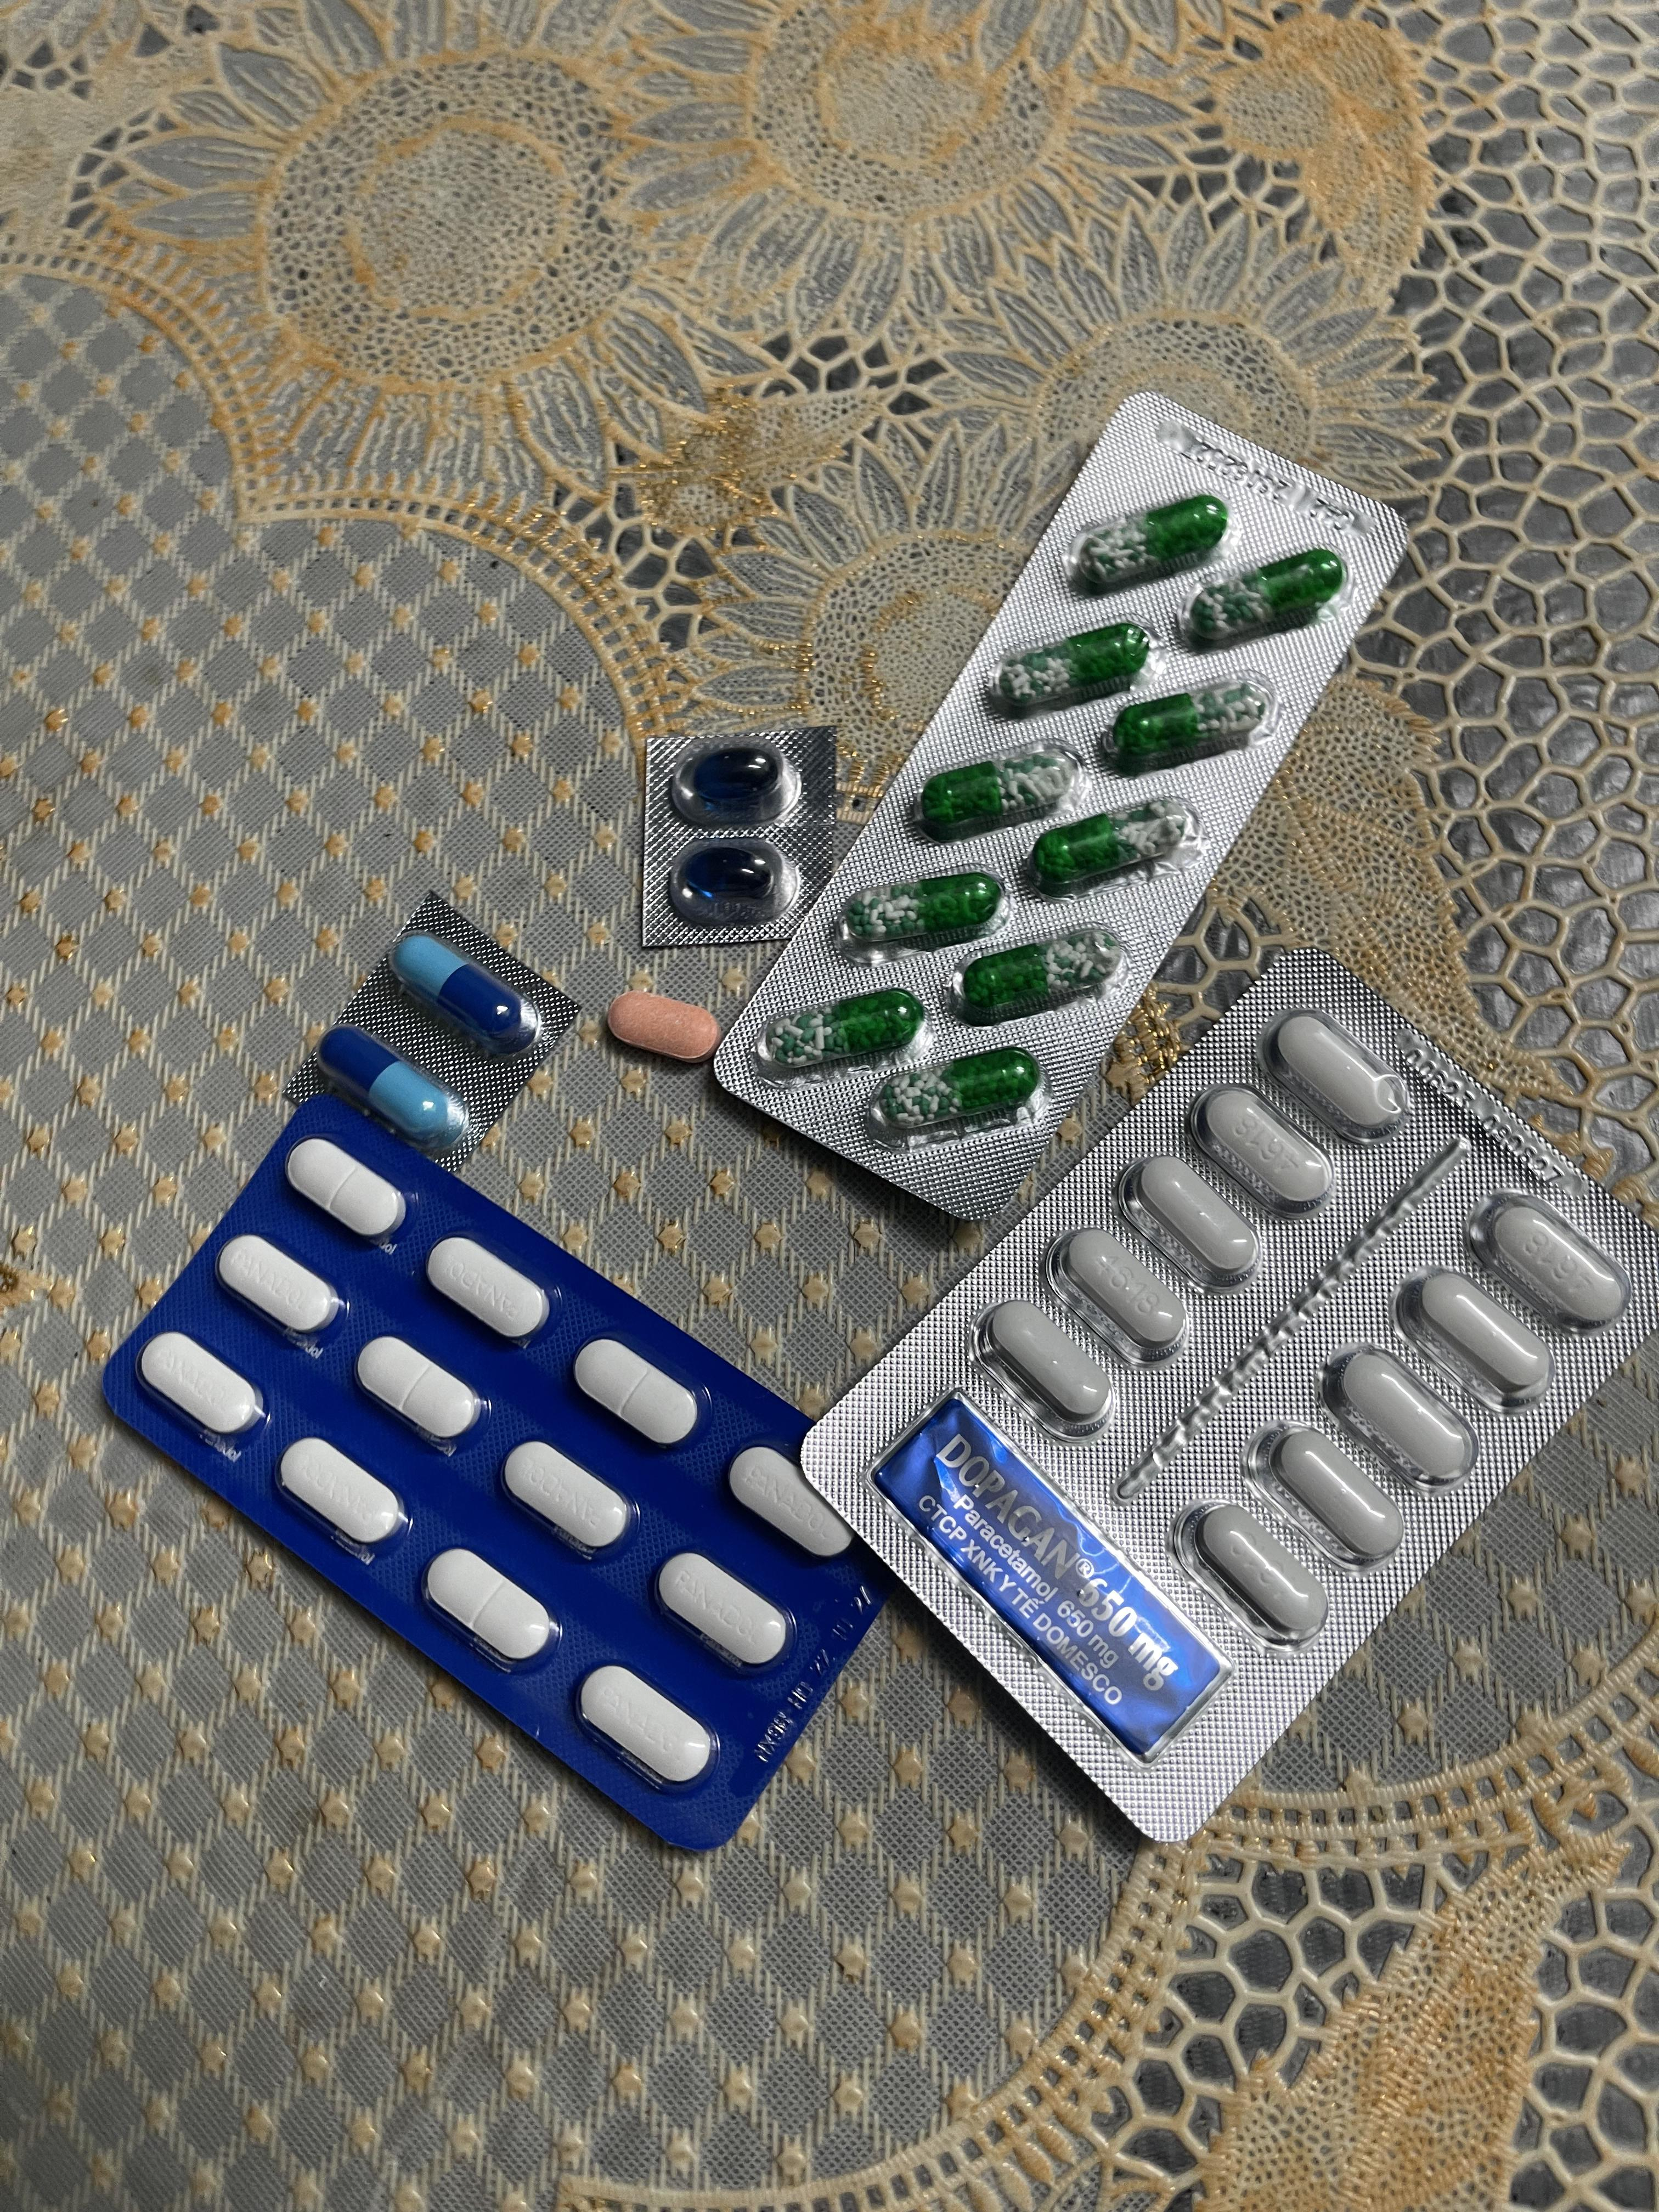Lincomyxin_500mg: (681, 845, 779, 906), (692, 749, 786, 812)
Loratadine_10mg: (605, 991, 721, 1062)
Paracetamol_350mg: (577, 1665, 713, 1791), (655, 1552, 795, 1670), (425, 1548, 556, 1663), (504, 1439, 631, 1554), (279, 1437, 404, 1550), (727, 1444, 849, 1559), (575, 1338, 701, 1446), (139, 1332, 261, 1440), (427, 1237, 551, 1343), (359, 1338, 481, 1442), (218, 1237, 340, 1338), (286, 1139, 404, 1233)
Paracetamol_500mg: (1321, 1345, 1480, 1498), (1394, 1268, 1554, 1420), (1246, 1418, 1408, 1568), (1466, 1184, 1629, 1331), (1176, 1498, 1331, 1651), (1260, 1007, 1410, 1143), (976, 1299, 1115, 1442), (1190, 1083, 1337, 1219), (1124, 1153, 1258, 1294), (1058, 1224, 1185, 1369)
Paracetamol_650mg: (1110, 676, 1276, 770), (878, 1050, 1040, 1146), (1077, 495, 1232, 592), (1188, 550, 1345, 646), (758, 981, 911, 1071), (920, 747, 1077, 831), (1000, 624, 1148, 709), (1044, 801, 1192, 887), (852, 869, 1006, 946), (965, 937, 1112, 1017)
pill: (315, 1038, 474, 1157), (389, 937, 538, 1054)
